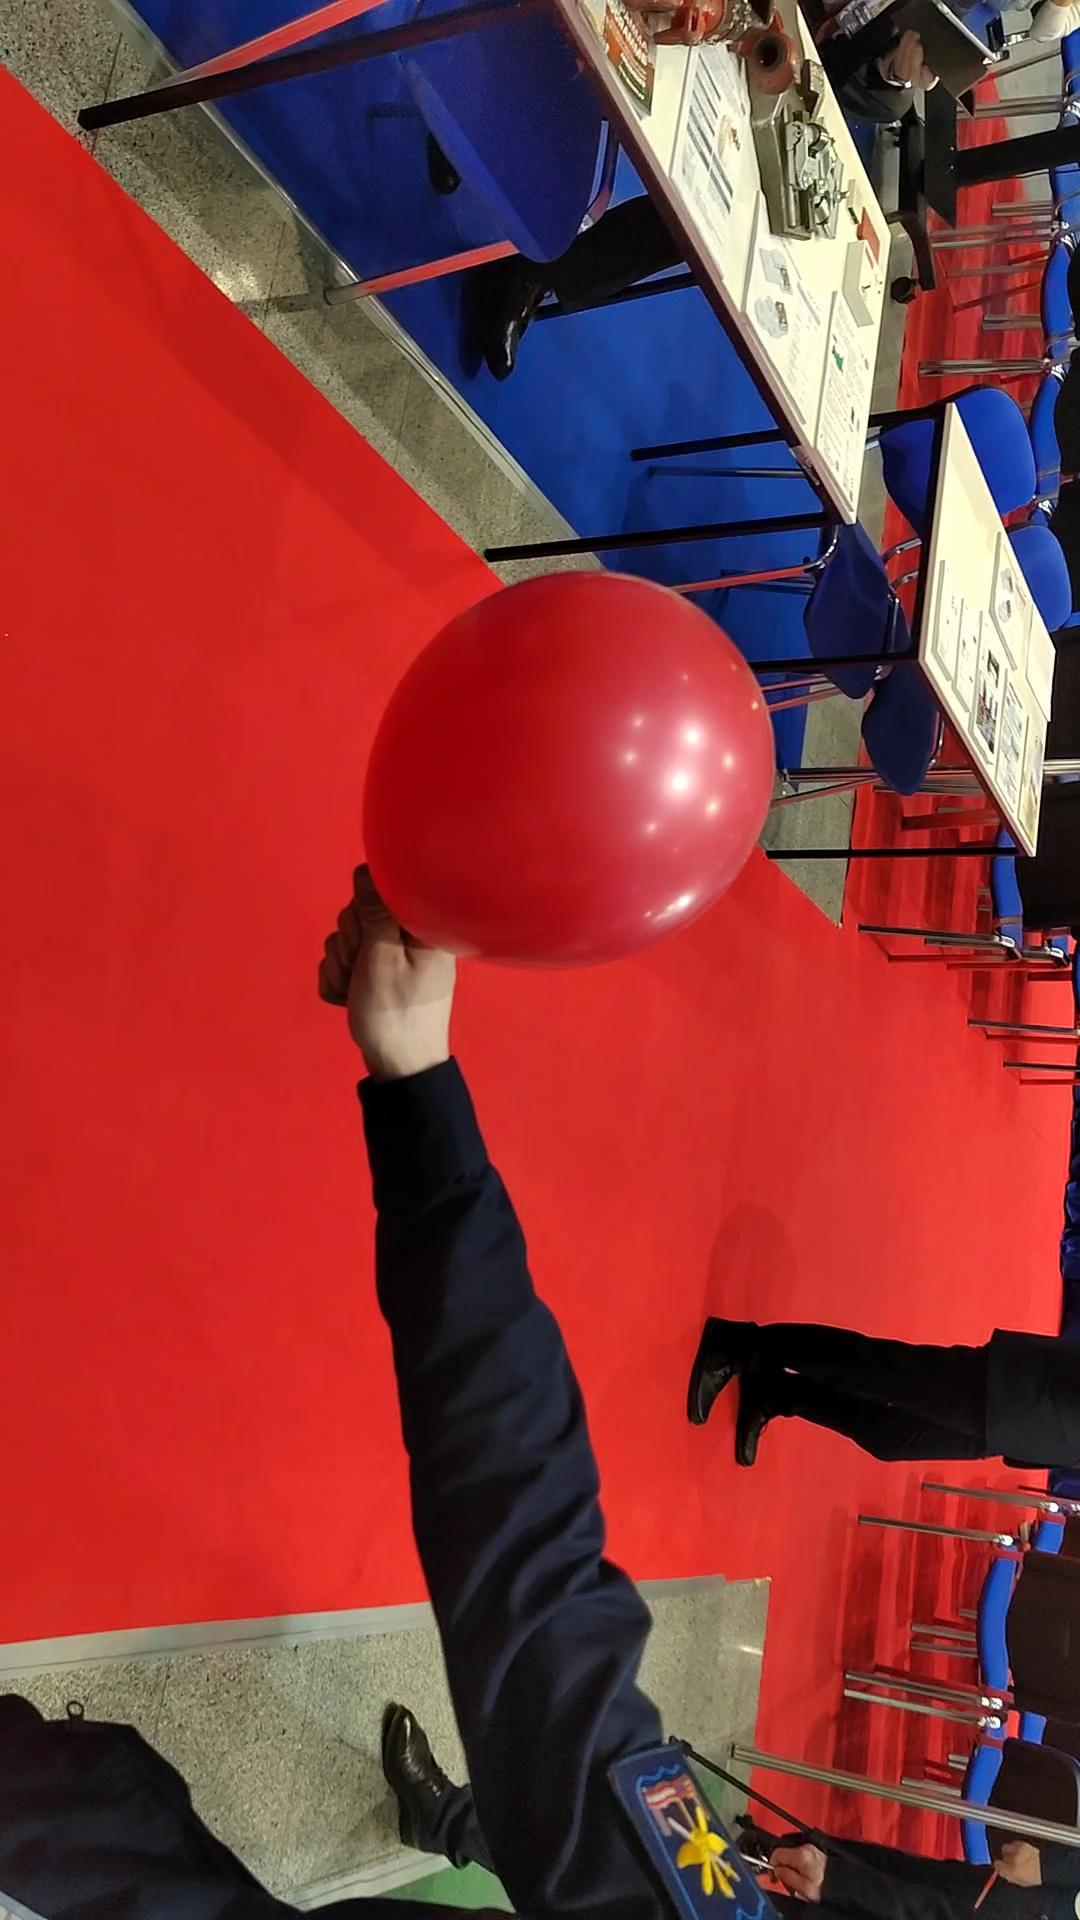red: (347, 560, 790, 975)
